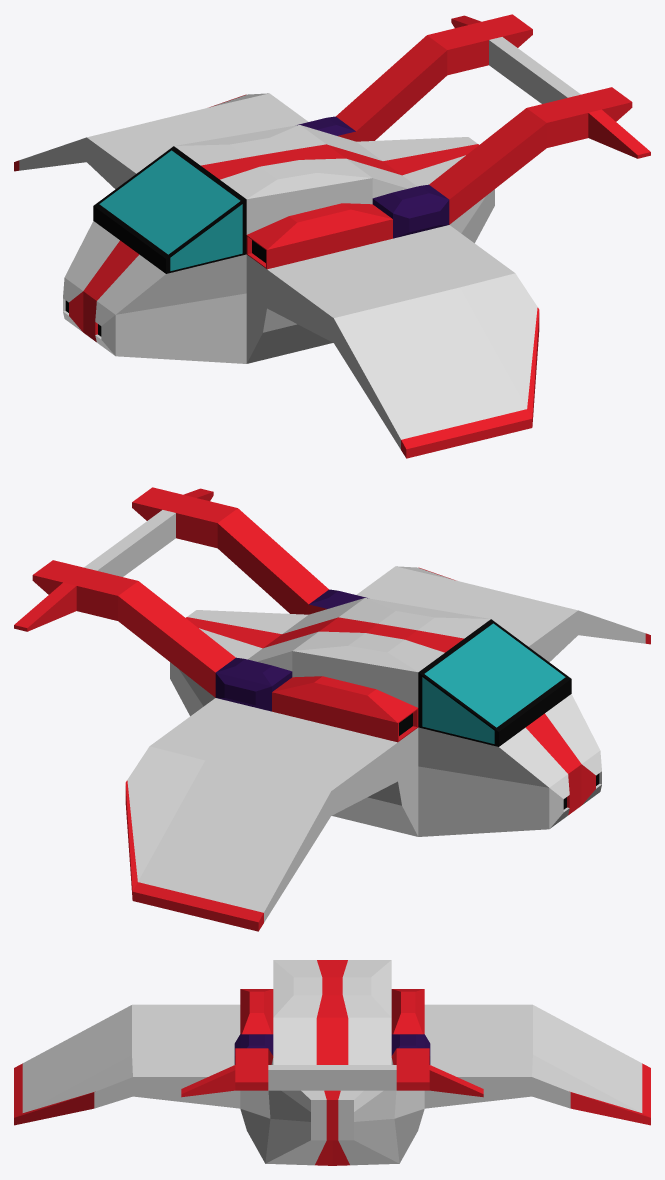
The model's file is CombatCopter.fbx.
3 renders of one model, top to bottom at view 1: azimuth 30°, elevation 25°; view 2: azimuth 150°, elevation 25°; view 3: azimuth 270°, elevation 25°, orthographic. The views are drawn at different scales.
Visible parts, largest first — view 1: Cube; view 2: Cube; view 3: Cube.
Part boxes in pixels (bbox=[...]): Cube: bbox=[14, 14, 650, 458]; Cube: bbox=[14, 487, 650, 931]; Cube: bbox=[14, 960, 650, 1165].
Bounding box in the file's own units: 779 × 290 × 1079.
